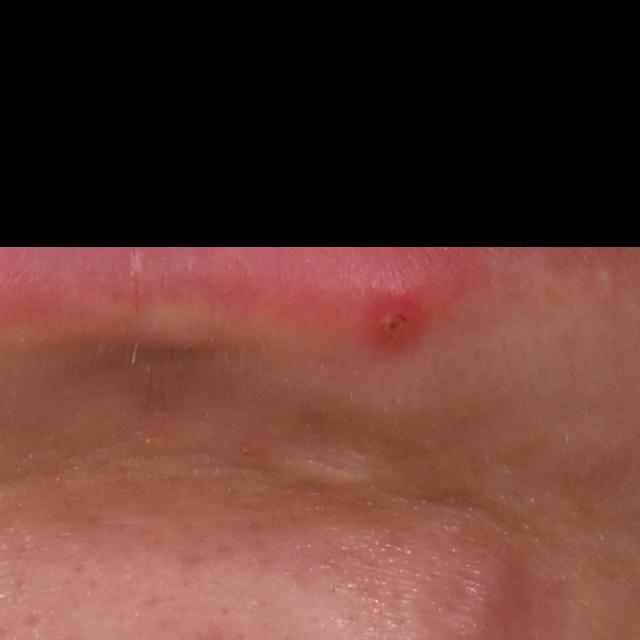hypertrophic_scar: (275, 447, 375, 488)
